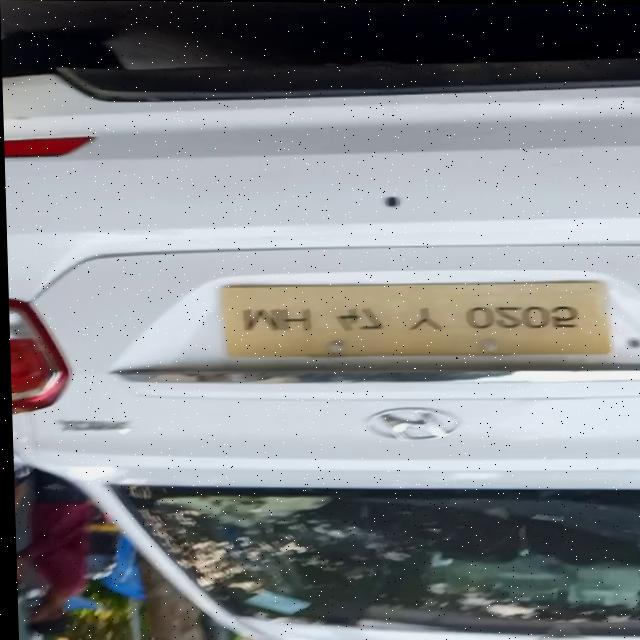plate: (216, 278, 610, 362)
